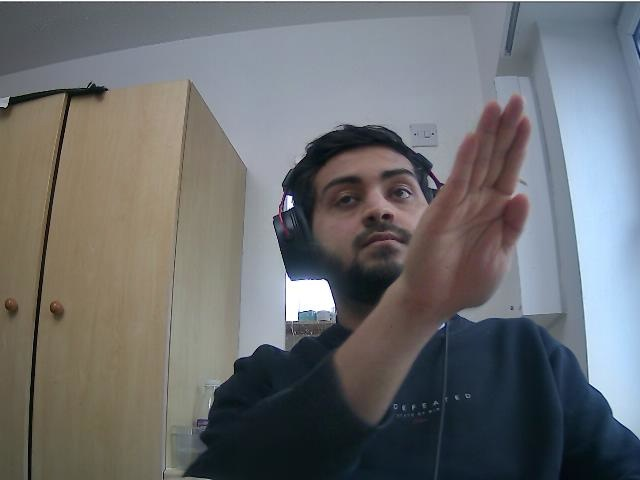up: (409, 93, 534, 307)
